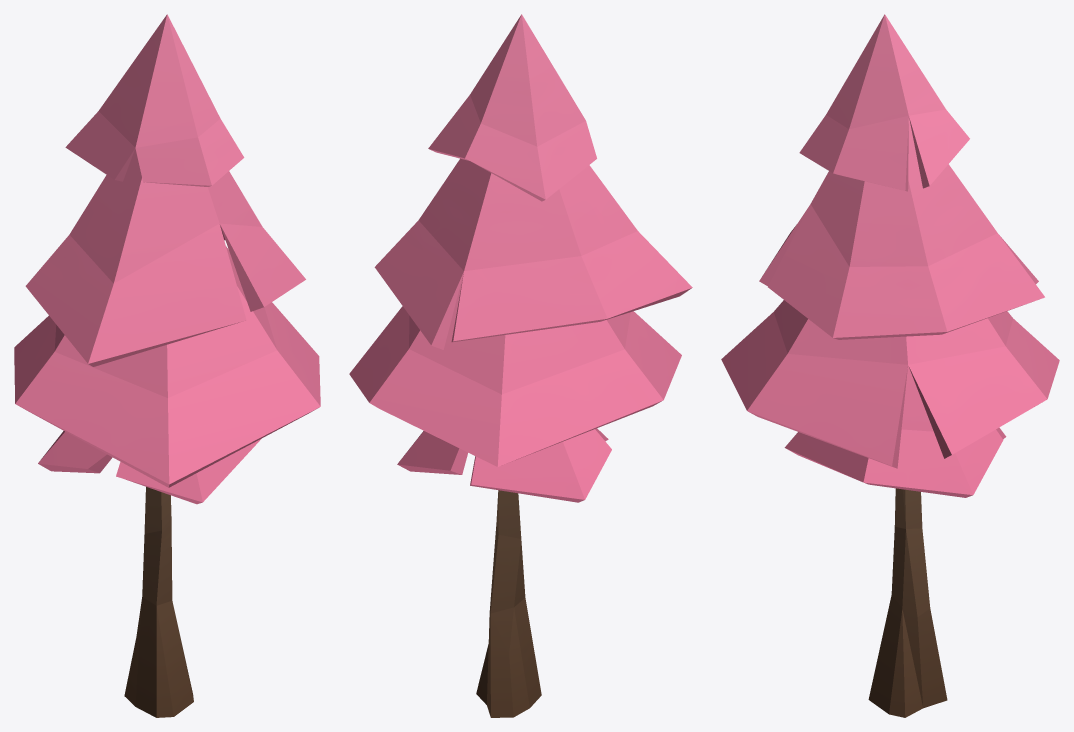
File: tree_pine_pink.fbx
3 views of the same model, side by side, from view 1: azimuth 30°, elevation 25°; view 2: azimuth 150°, elevation 25°; view 3: azimuth 270°, elevation 25° (orthographic). The views are drawn at different scales.
Visible parts, largest first — view 1: tree_pine_pink; view 2: tree_pine_pink; view 3: tree_pine_pink.
Part boxes in pixels (x1=…): tree_pine_pink: x1=14, y1=14, x2=320, y2=717; tree_pine_pink: x1=349, y1=14, x2=692, y2=717; tree_pine_pink: x1=721, y1=14, x2=1059, y2=717.
Size of the model in its own units: 5.47 by 11.97 by 5.35.
1 material, 1 textured.
